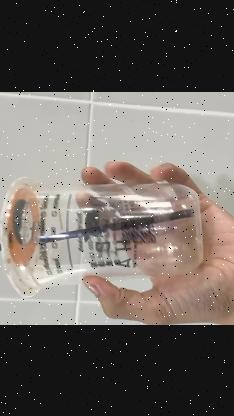Others: (0, 174, 204, 298)
